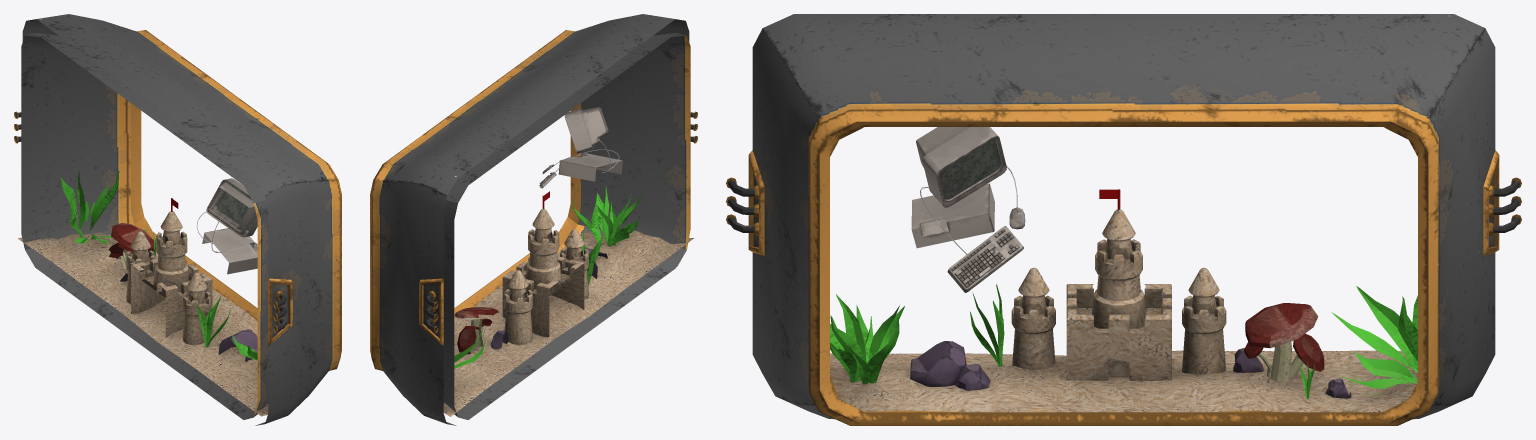
File: PROP_028_Fishtank.fbx
3 views of the same model, side by side, from view 1: azimuth 30°, elevation 25°; view 2: azimuth 150°, elevation 25°; view 3: azimuth 270°, elevation 25° (orthographic). The views are drawn at different scales.
Parts seen in each view (by area): view 1: Sand_001; view 2: Sand_001; view 3: Sand_001.
Boxes of the visible parts, left/top/right/bottom form: Sand_001: left=14, top=14, right=341, bottom=425; Sand_001: left=370, top=14, right=697, bottom=425; Sand_001: left=726, top=14, right=1521, bottom=425.
Size of the model in its own units: 0.89 by 2.09 by 3.97.
Materials: 1 (1 with a texture image).
